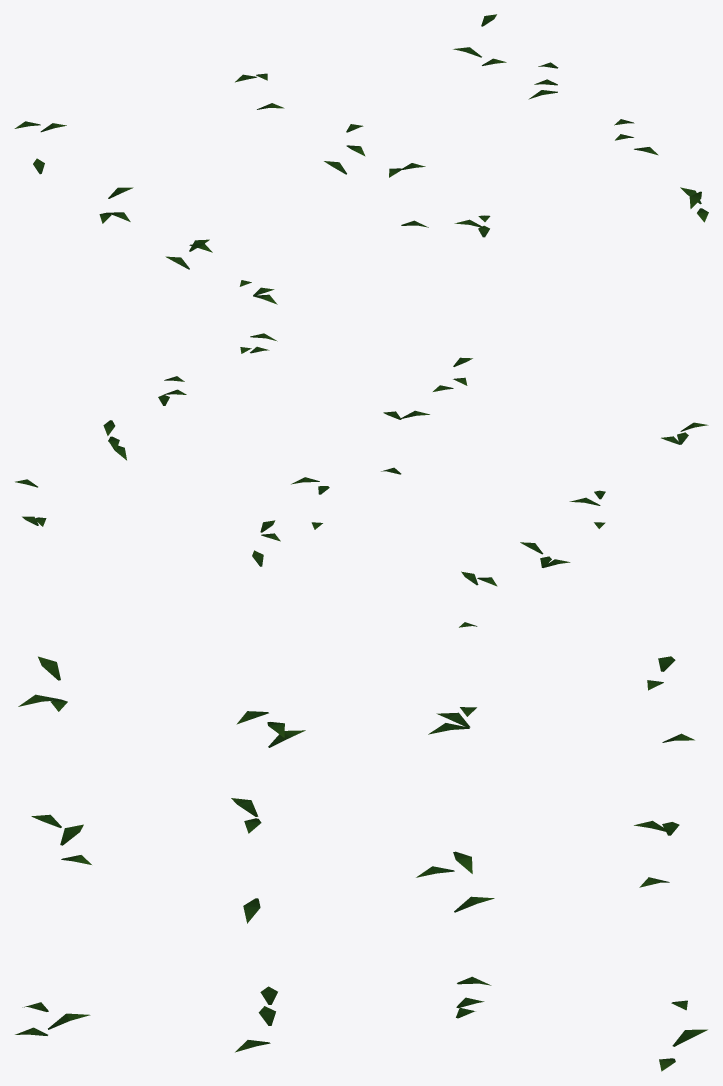
Rendered from fm_pepper_2_lod1.glb.
3 renders of one model, top to bottom at view 1: azimuth 30°, elevation 25°; view 2: azimuth 150°, elevation 25°; view 3: azimuth 270°, elevation 25°, orthographic. The views are drawn at different scales.
Visible parts, largest first — view 1: fm_pepper_2_lod1; view 2: fm_pepper_2_lod1; view 3: fm_pepper_2_lod1.
Part boxes in pixels (x1,y1,x2,y2): fm_pepper_2_lod1: [14, 14, 708, 304]; fm_pepper_2_lod1: [15, 333, 708, 627]; fm_pepper_2_lod1: [15, 656, 707, 1071].
Size of the model in its own units: 2.96 by 0.3865 by 2.51.
